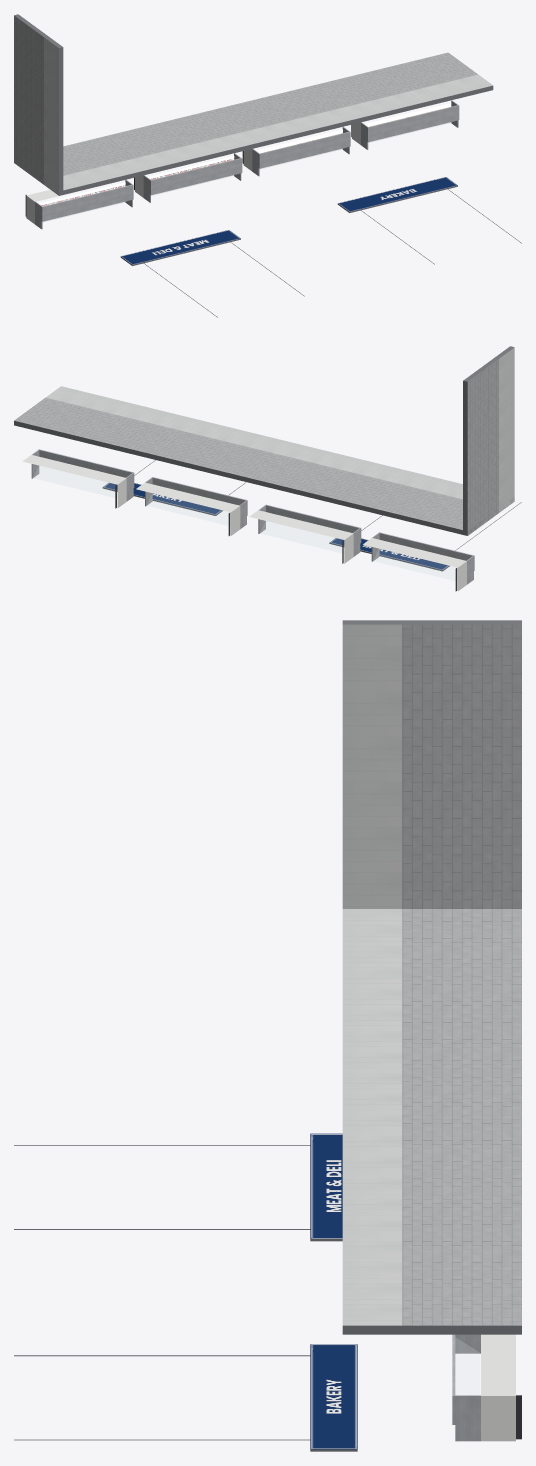
File: back_fresh.gltf
3 renders of one model, top to bottom at view 1: azimuth 30°, elevation 25°; view 2: azimuth 150°, elevation 25°; view 3: azimuth 270°, elevation 25°, orthographic. The views are drawn at different scales.
Parts seen in each view (by area): view 1: back_fresh; view 2: back_fresh; view 3: back_fresh.
Boxes of the visible parts, x1,y1,x2,y2 form: back_fresh: (14, 14, 521, 317); back_fresh: (14, 346, 521, 591); back_fresh: (14, 620, 521, 1451).
Size of the model in its own units: 20 by 10.03 by 10.2.
Materials: 13 (8 with a texture image).
